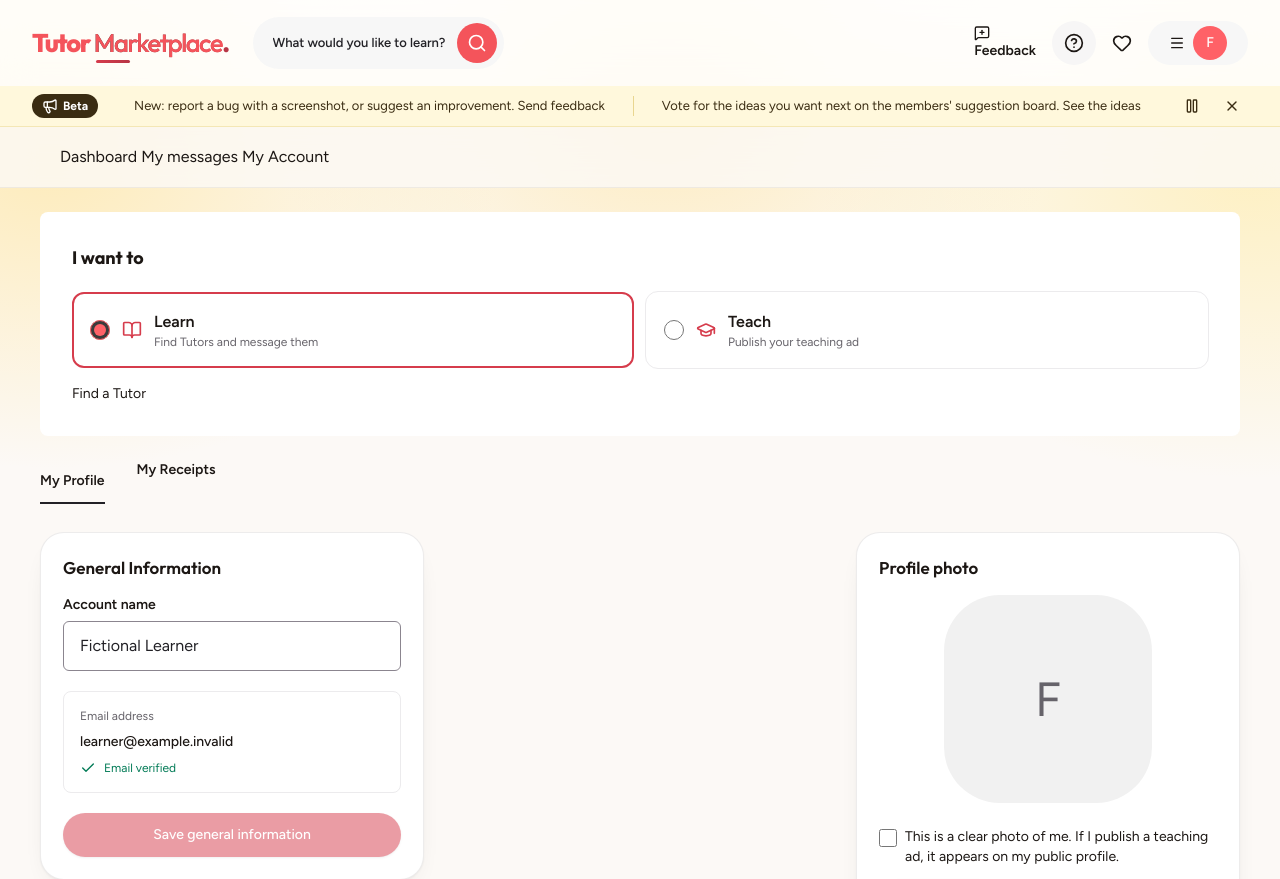
Test: keeps the reference account cards truthful for a learner without identity or portrait tools
The width and height of the screenshot is (1280, 879).
Expected: the heading "General Information" is shown, [63, 557, 221, 578]
Expected: the text "Email verified" is shown, [80, 760, 176, 776]
Click the checkbox labelled "This is a clear photo of me".
click(888, 838)  # box [879, 828, 897, 846]
(page scrolled)
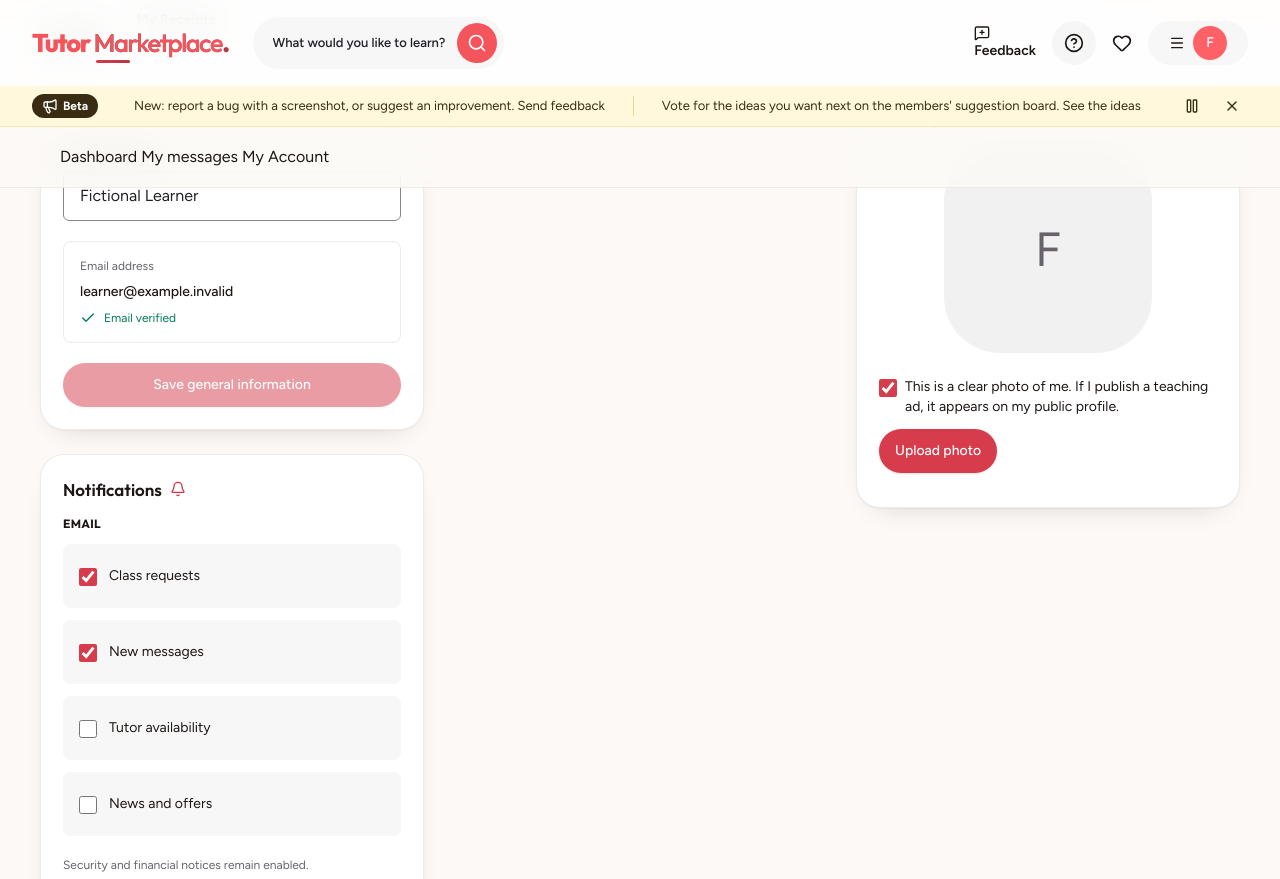
Expected: the button "Upload photo" is enabled, [879, 428, 997, 472]
